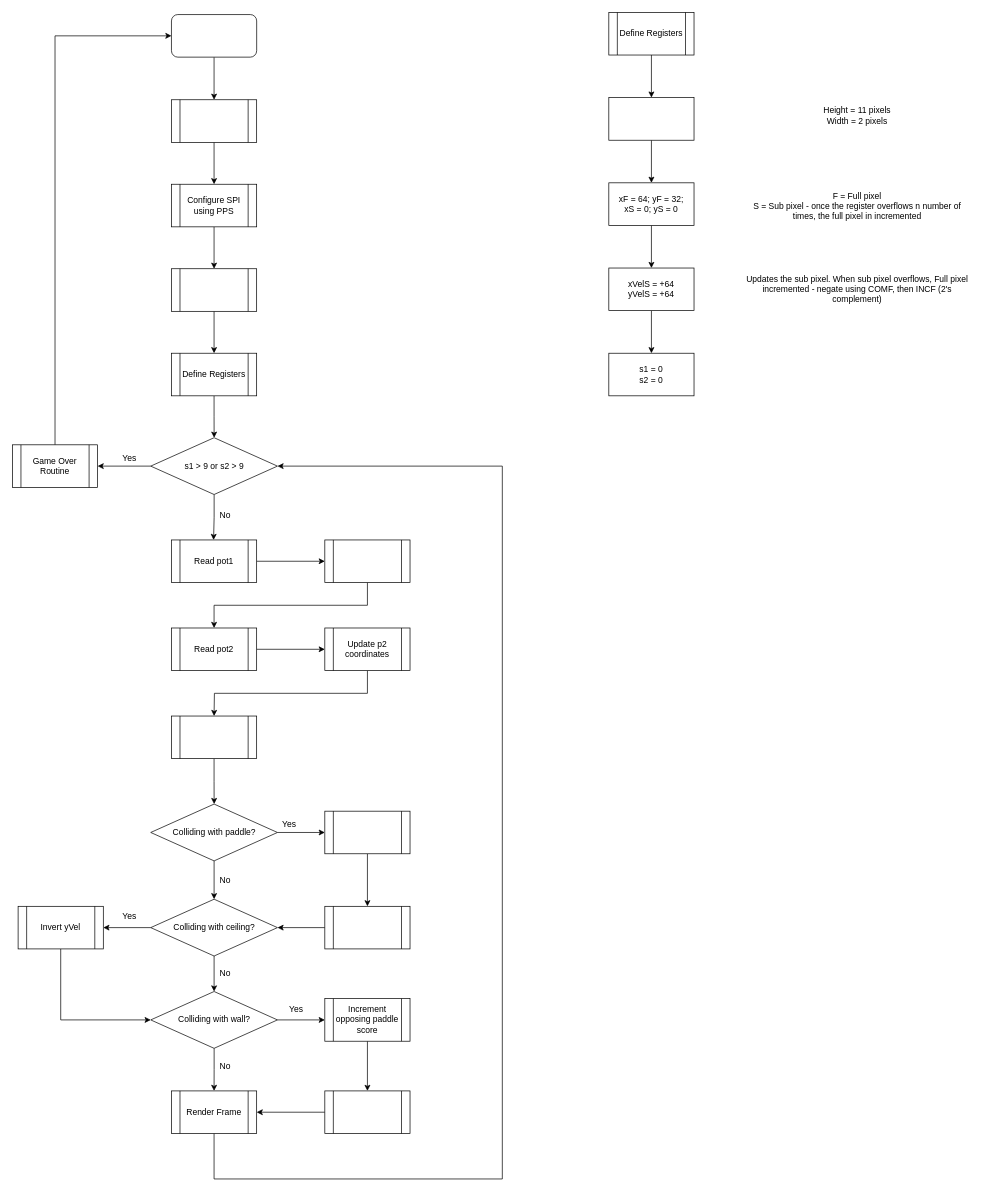
The diagram is 983 pixels wide and 1197 high, and some of its shapes have lost their labels. Each missing label, with the centre of its shape:
"Increment xVel" belongs at (x=367, y=927).
"Initialise Ports" belongs at (x=214, y=120).
"Initialise Screen" belongs at (x=214, y=289).
"Invert xVel" belongs at (x=367, y=832).
"Reset xVel and yVel" belongs at (x=367, y=1112).
"Start" belongs at (x=214, y=35).
"Update ball position" belongs at (x=214, y=737).
"Update p1 coordinates" belongs at (x=367, y=561).
"y1 = 32; x1 = 1 y2 = 32; x2 = 126" belongs at (x=651, y=118).
